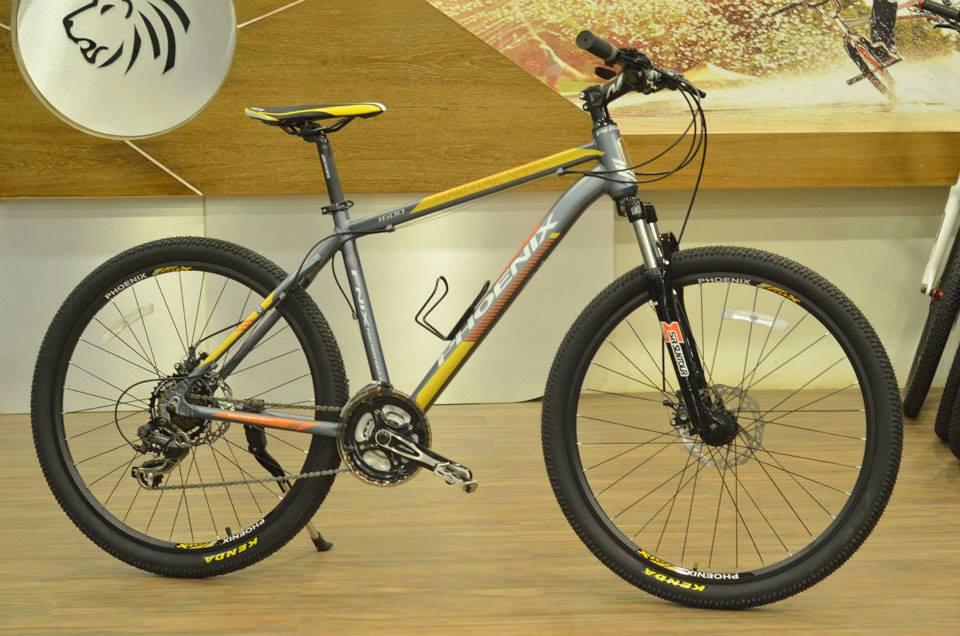bicycle: (27, 42, 899, 611)
